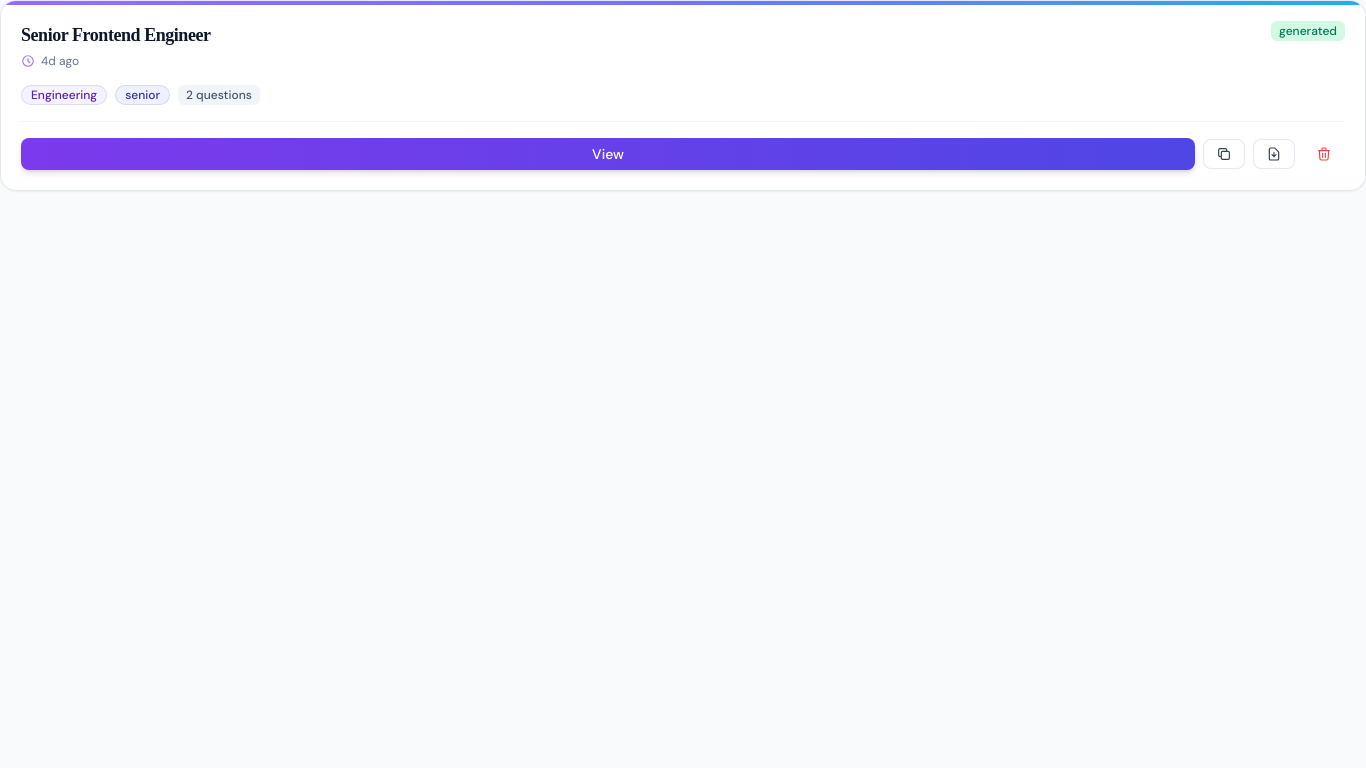
Test: KitCard › opens confirm dialog on delete click
Click the button named "Delete kit": (1324, 154) x1=1303 y1=139 x2=1345 y2=169
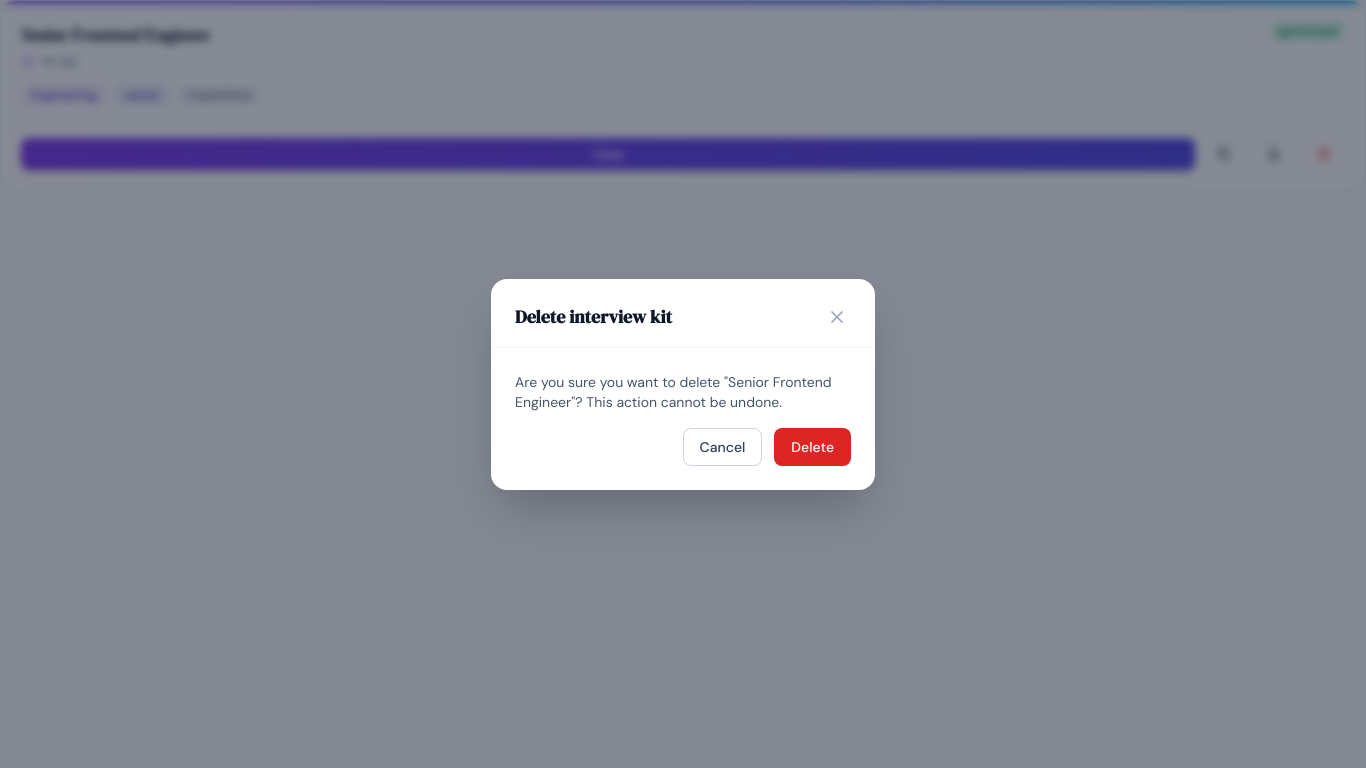
Now the heading "Delete interview kit" is shown, box x1=515 y1=302 x2=672 y2=330
